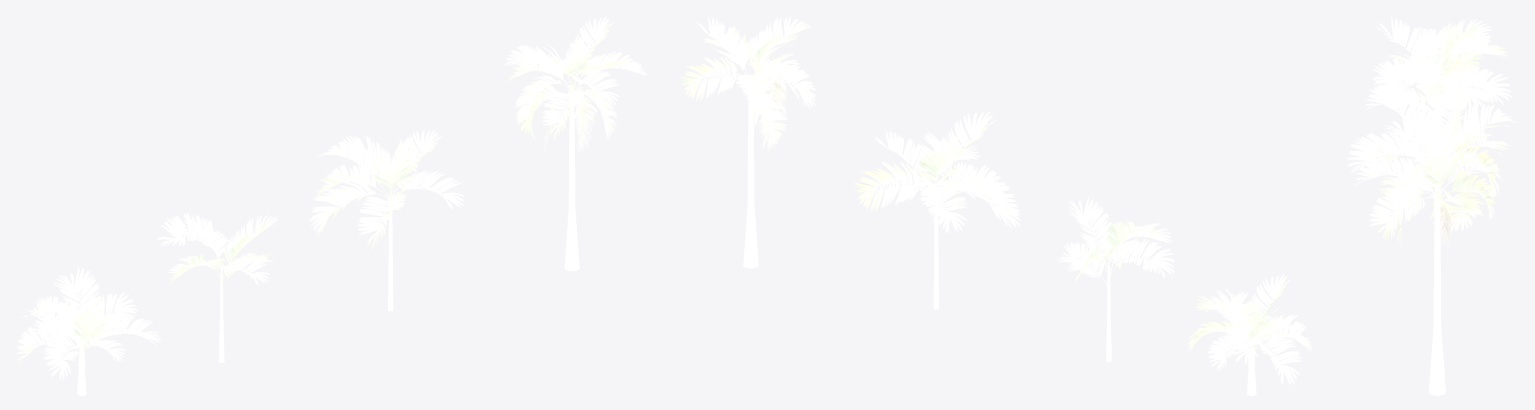
3 views of the same model, side by side, from view 1: azimuth 30°, elevation 25°; view 2: azimuth 150°, elevation 25°; view 3: azimuth 270°, elevation 25° (orthographic). The views are drawn at different scales.
Visible parts, largest first — view 1: polySurface117, polySurface118, polySurface142, polySurface127; view 2: polySurface118, polySurface117, polySurface142, polySurface127; view 3: polySurface117, polySurface118, polySurface142, polySurface127.
Boxes of the visible parts, left/top/right/bottom form: polySurface117: left=504, top=17, right=648, bottom=271; polySurface118: left=309, top=130, right=464, bottom=311; polySurface142: left=16, top=266, right=161, bottom=395; polySurface127: left=156, top=213, right=278, bottom=362; polySurface118: left=854, top=112, right=1020, bottom=309; polySurface117: left=680, top=17, right=816, bottom=268; polySurface142: left=1188, top=274, right=1312, bottom=395; polySurface127: left=1057, top=197, right=1174, bottom=361; polySurface117: left=1353, top=109, right=1500, bottom=395; polySurface118: left=1346, top=81, right=1516, bottom=198; polySurface142: left=1372, top=17, right=1509, bottom=124; polySurface127: left=1365, top=22, right=1511, bottom=212.
Size of the model in its own units: 1.03 by 0.4009 by 0.2364.
Materials: 8 (4 with a texture image).
